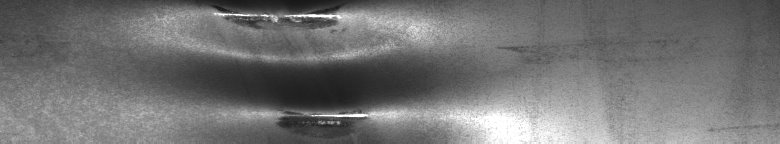ke: (196, 4, 391, 128)
